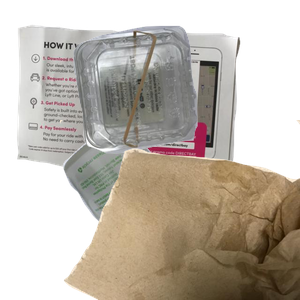glass: (60, 120, 300, 300)
paper: (14, 22, 247, 191)
plastic: (71, 23, 300, 169)
trash: (60, 120, 300, 300)
